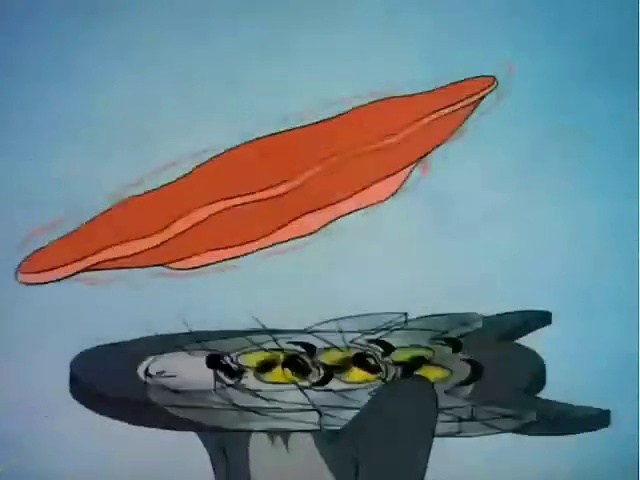tom: (56, 297, 618, 462)
